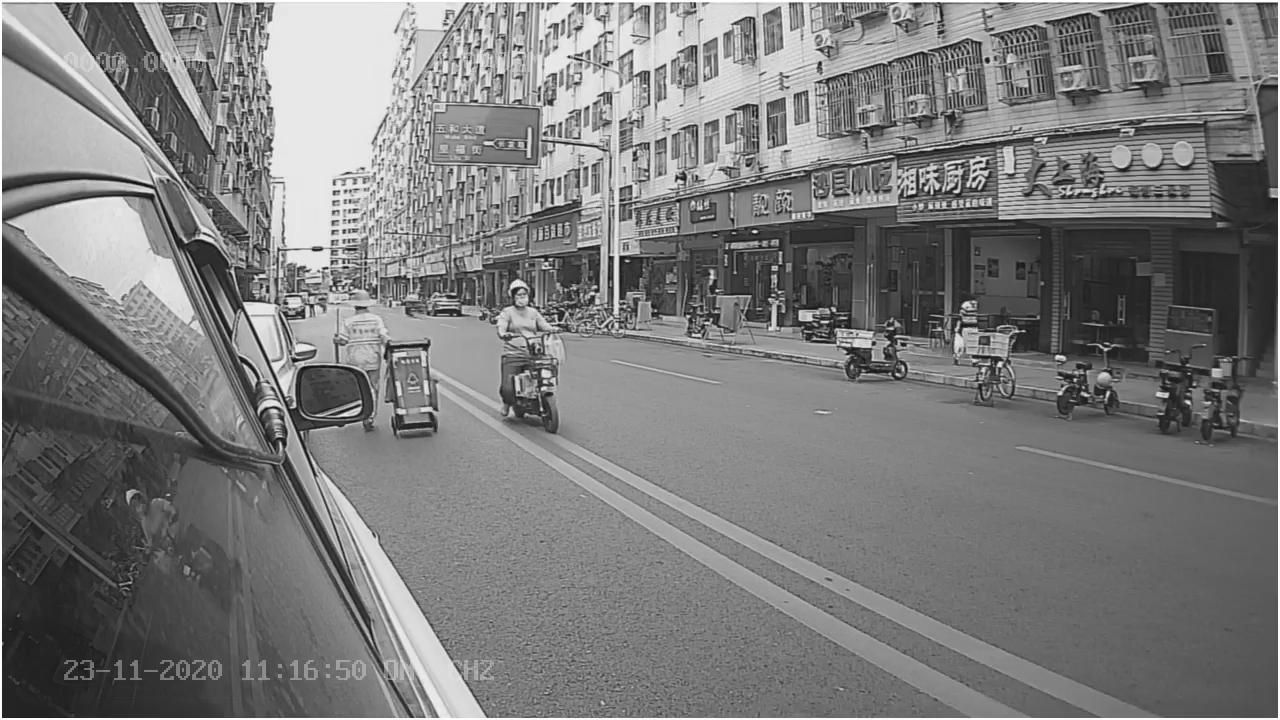person: (492, 280, 557, 338)
